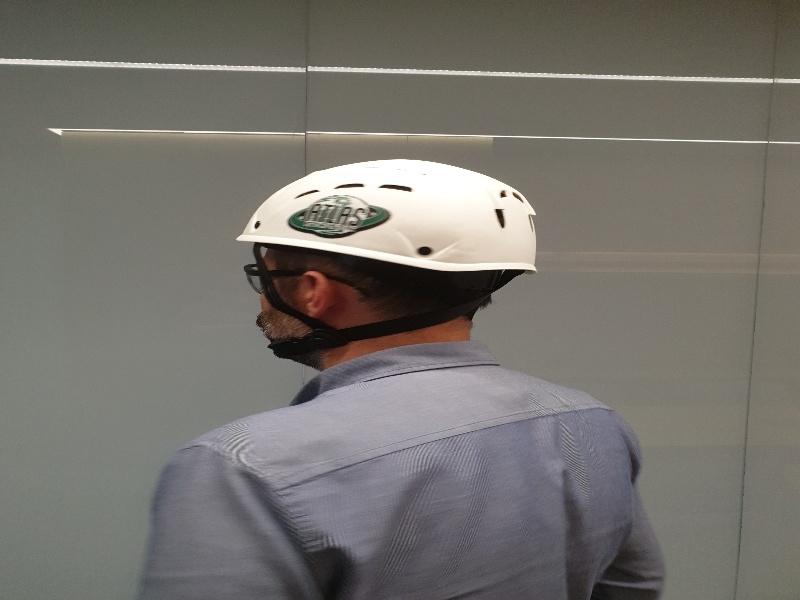Baret: (233, 154, 546, 277)
Gozluk: (241, 257, 317, 295)
